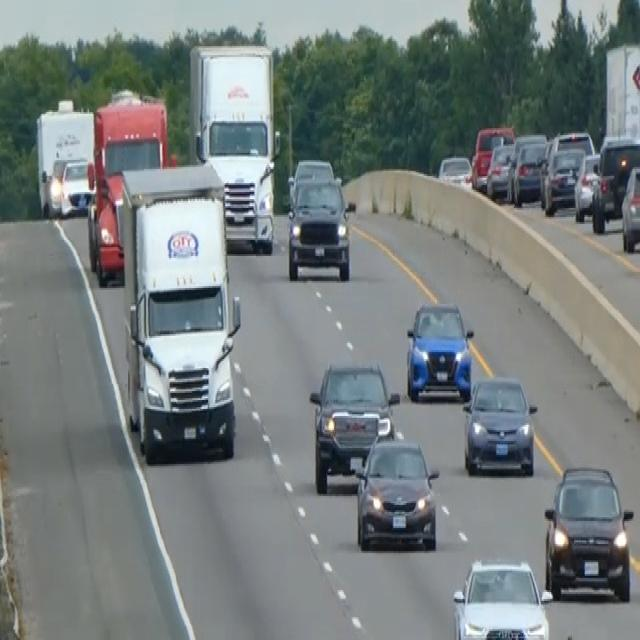car: (543, 462, 633, 603), (308, 358, 399, 492), (353, 432, 439, 551), (451, 555, 551, 638), (461, 372, 538, 476), (286, 172, 354, 281), (405, 298, 474, 402), (591, 133, 639, 233), (541, 144, 584, 213), (471, 123, 514, 192), (508, 137, 546, 206), (287, 154, 334, 204), (59, 156, 92, 217), (573, 151, 601, 221), (620, 162, 639, 252), (485, 141, 514, 199), (437, 153, 472, 187)
lorry: (117, 160, 242, 464), (188, 39, 281, 254)
